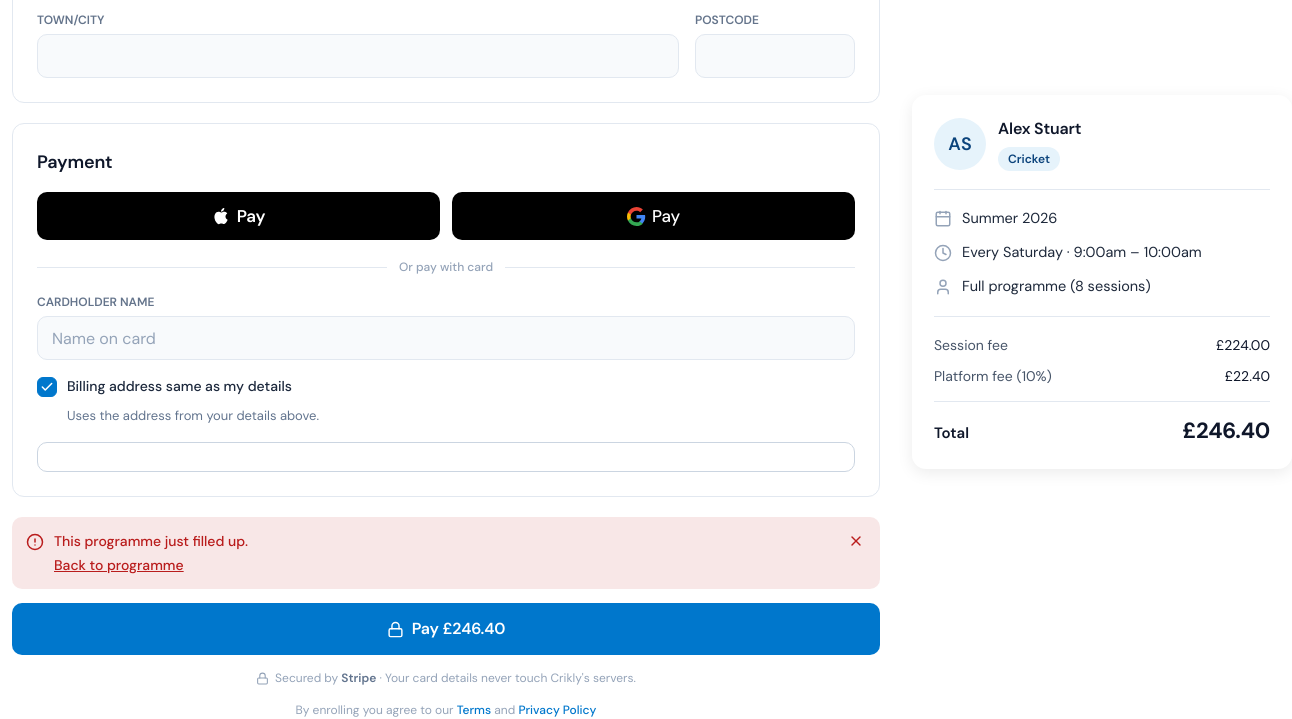
GuestEnrolmentFlow — spots_taken error (initialError) › clicking dismiss removes the spots_taken error banner
(page scrolled)
Click the button named "Dismiss error" at [856, 541], box [842,527,870,555]
(page scrolled)
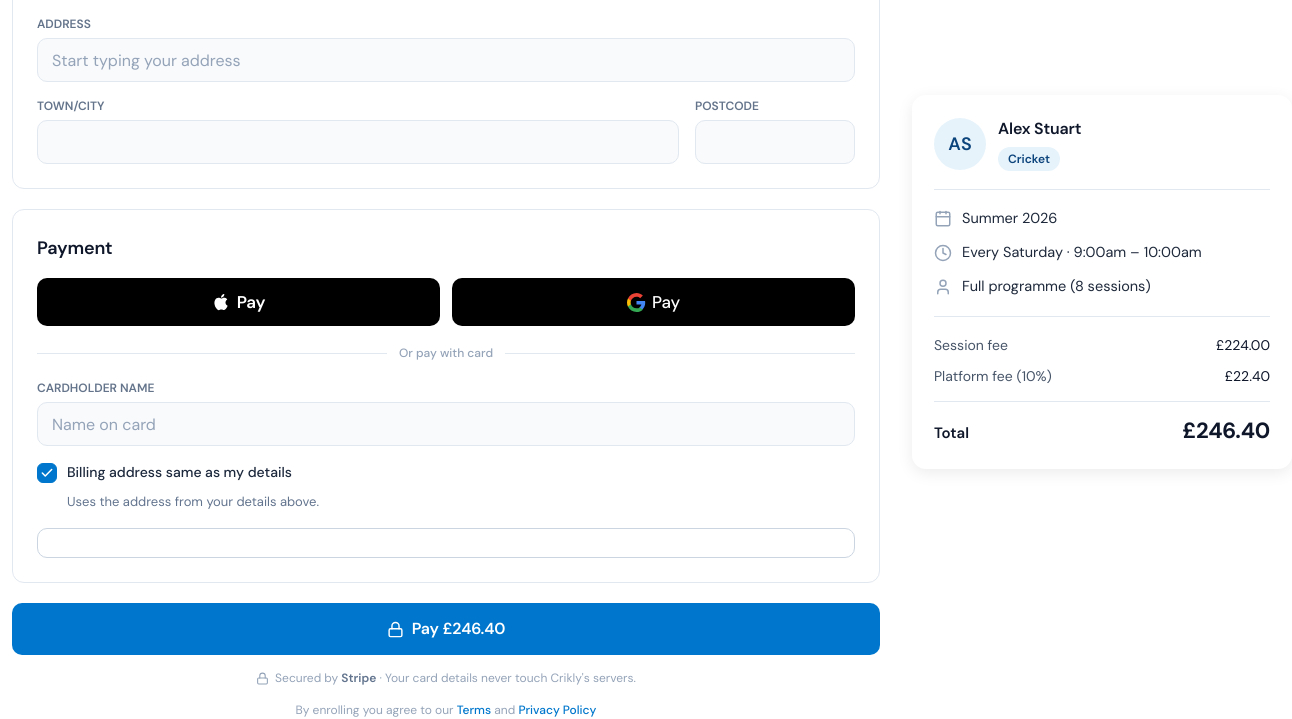
Result: the message "This programme just filled up. Back to programme" is gone
